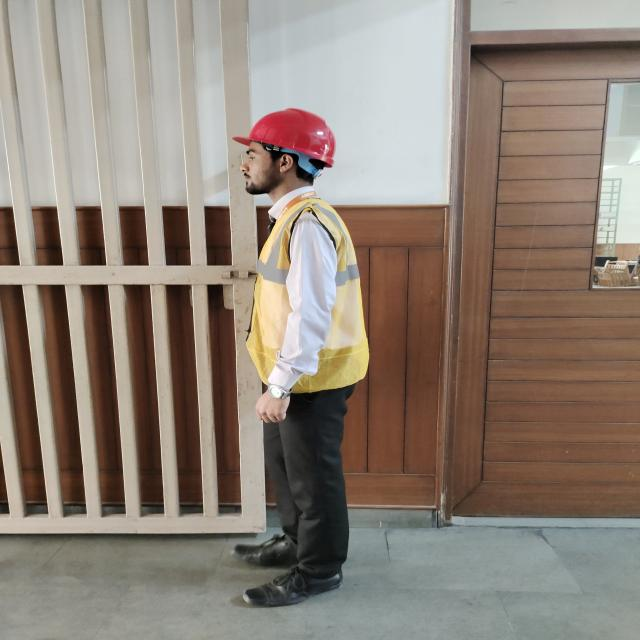safe: (232, 108, 369, 604)
